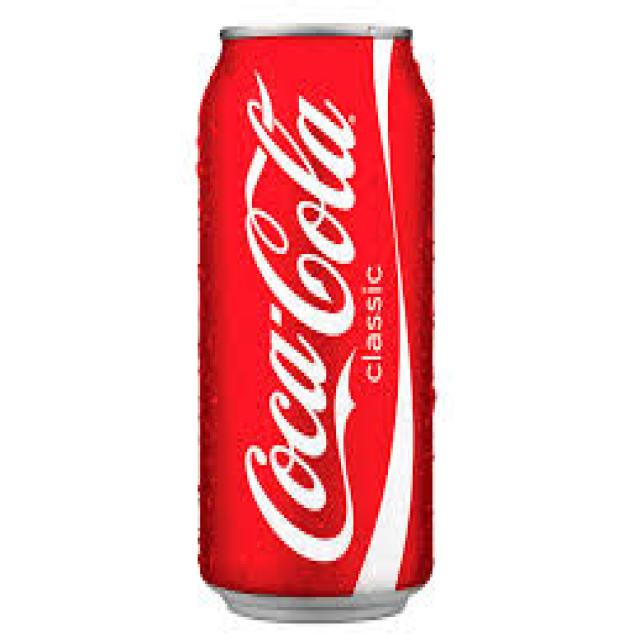Coca-Cola: (192, 13, 446, 631)
